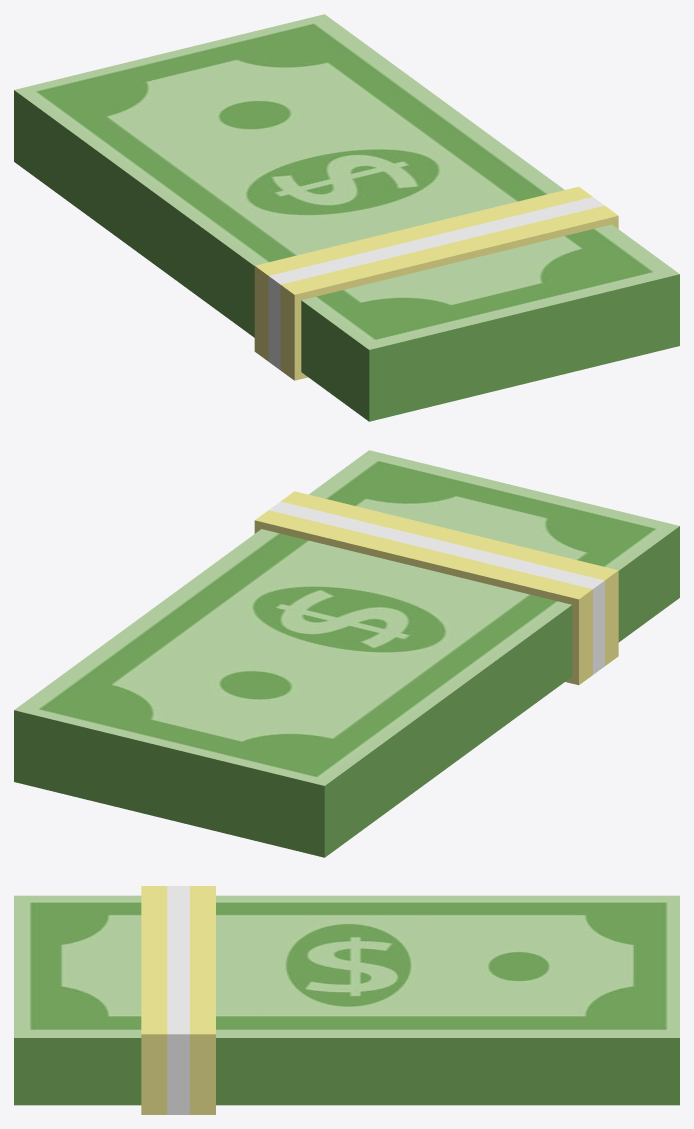
The model's file is Currency.fbx.
The picture shows the model from 3 angles, top to bottom: view 1: azimuth 30°, elevation 25°; view 2: azimuth 150°, elevation 25°; view 3: azimuth 270°, elevation 25°; orthographic projection. The views are drawn at different scales.
Visible parts, largest first — view 1: Money, Belt; view 2: Money, Belt; view 3: Money, Belt.
Boxes of the visible parts, bbox=[...] form: Money: bbox=[14, 14, 679, 421]; Belt: bbox=[254, 186, 618, 380]; Money: bbox=[14, 450, 679, 857]; Belt: bbox=[254, 491, 618, 685]; Money: bbox=[14, 895, 679, 1105]; Belt: bbox=[141, 886, 215, 1114].
Bounding box in the file's own units: 96.26 × 24.36 × 183.
